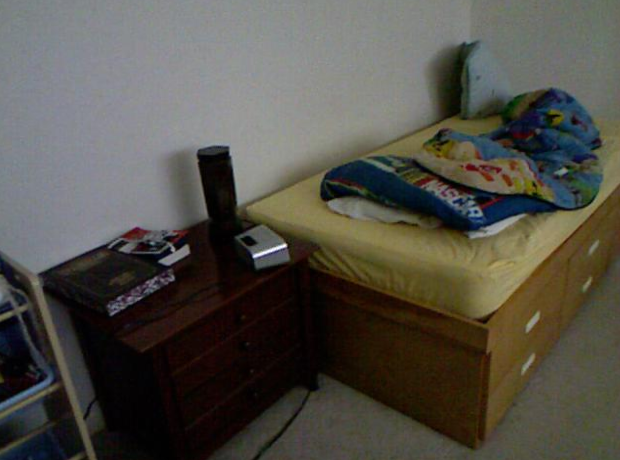cabinet: (98, 234, 321, 438)
